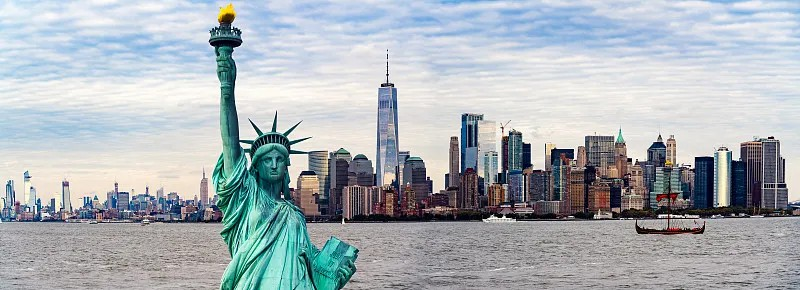SL: (209, 3, 359, 290)
